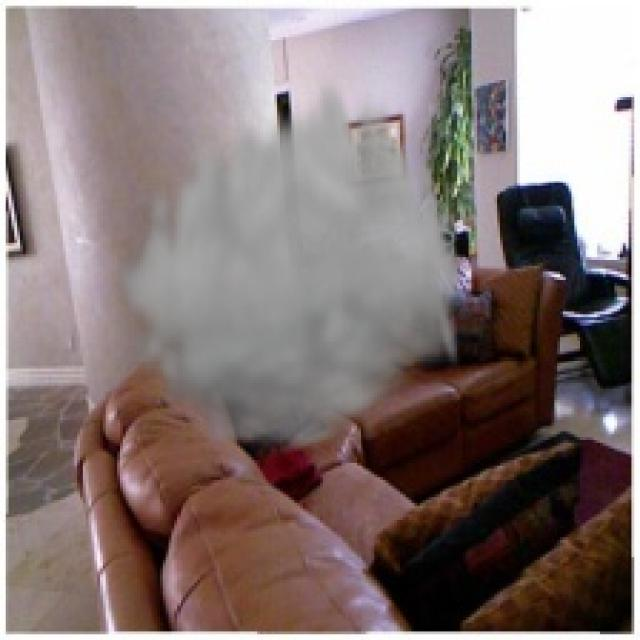smoke: (111, 66, 466, 460)
